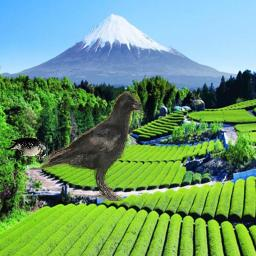Crow: (41, 91, 142, 201)
Woodpecker: (6, 138, 47, 165)
